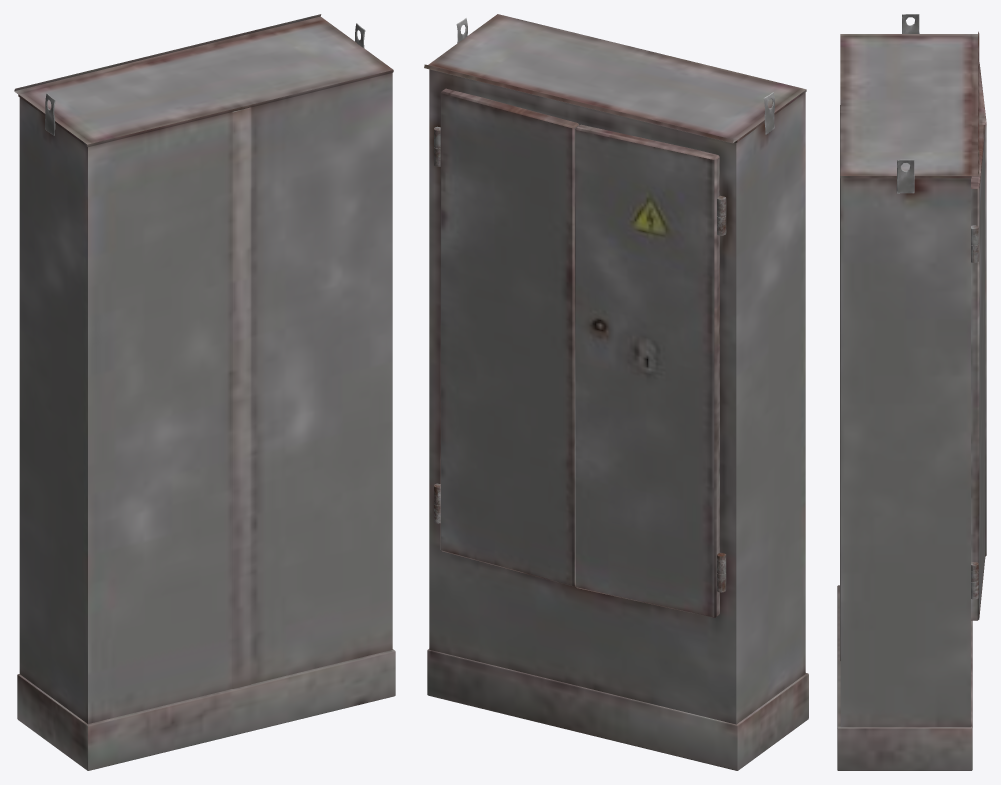
Rendered from electric-cabinet.glb.
3 views of the same model, side by side, from view 1: azimuth 30°, elevation 25°; view 2: azimuth 150°, elevation 25°; view 3: azimuth 270°, elevation 25° (orthographic). The views are drawn at different scales.
Visible parts, largest first — view 1: electric_cabinet; view 2: electric_cabinet; view 3: electric_cabinet.
Part boxes in pixels (box(x1,y1,x2,y2)): electric_cabinet: box(14, 14, 395, 770); electric_cabinet: box(424, 14, 808, 770); electric_cabinet: box(837, 14, 986, 770).
Size of the model in its own units: 0.9896 by 1.97 by 0.4346.
1 material, 1 textured.
